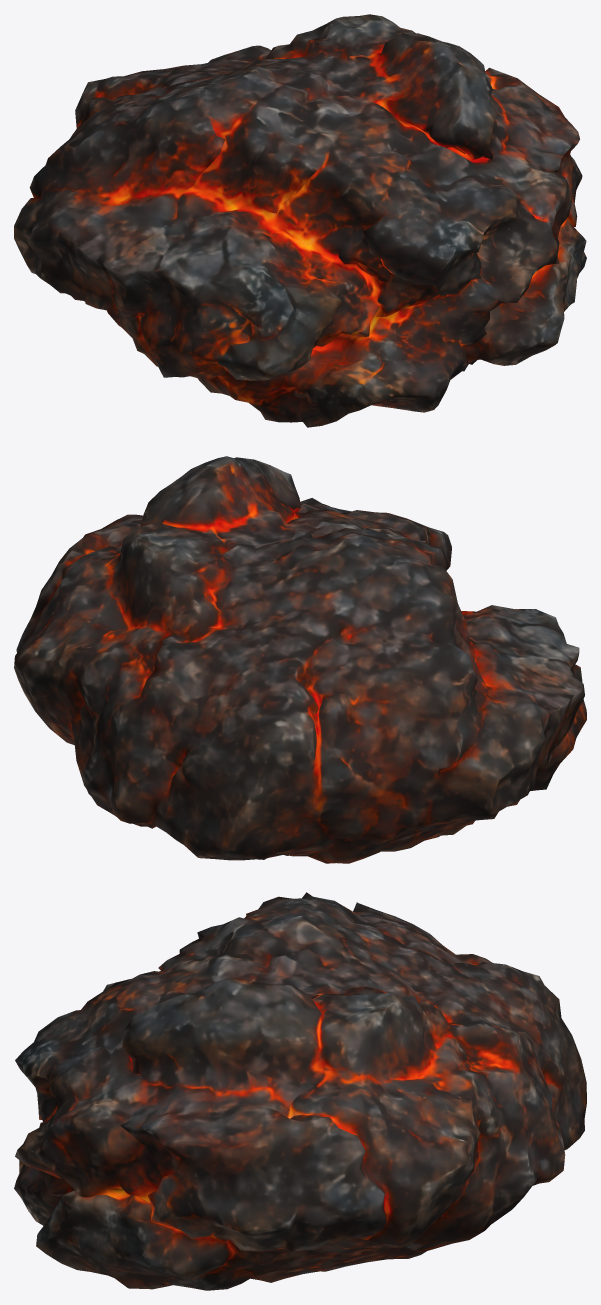
File: lava_rock_a.glb
The picture shows the model from 3 angles, top to bottom: view 1: azimuth 30°, elevation 25°; view 2: azimuth 150°, elevation 25°; view 3: azimuth 270°, elevation 25°; orthographic projection. The views are drawn at different scales.
Parts seen in each view (by area): view 1: lava_rock_a; view 2: lava_rock_a; view 3: lava_rock_a.
Part boxes in pixels (bbox=[...]): lava_rock_a: bbox=[14, 14, 586, 427]; lava_rock_a: bbox=[14, 456, 586, 863]; lava_rock_a: bbox=[14, 892, 586, 1290].
Bounding box in the file's own units: 0.9575 × 0.5718 × 0.9009.
Materials: 1 (1 with a texture image).
